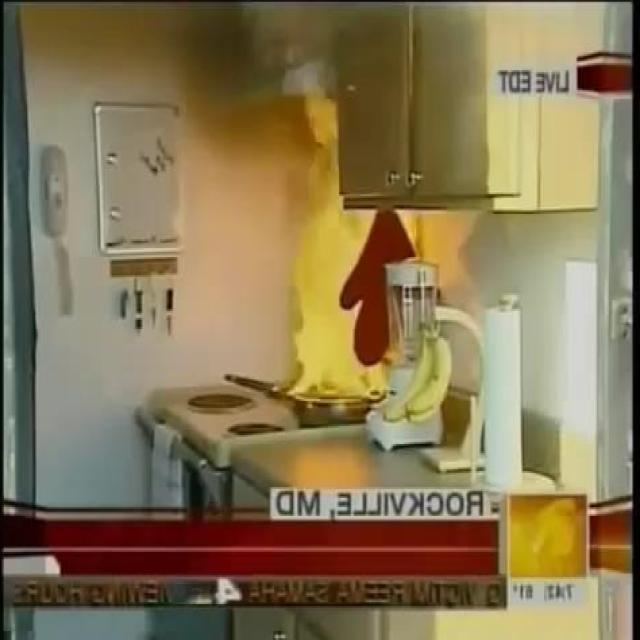fire: (240, 3, 342, 92)
smoke: (282, 90, 412, 397)
